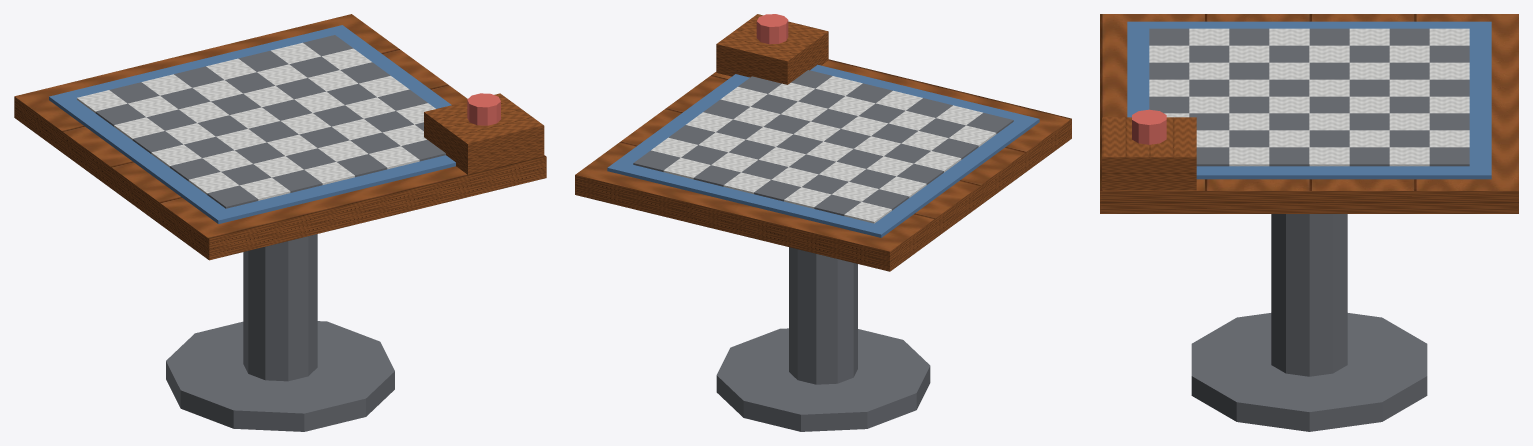
The model's file is cruise-ship-deck-and-lounge-cruise-ship-deck-and-loung-c3a394a3__38441.glb.
3 renders of one model, left to right at view 1: azimuth 30°, elevation 25°; view 2: azimuth 150°, elevation 25°; view 3: azimuth 270°, elevation 25°, orthographic. The views are drawn at different scales.
Visible parts, largest first — view 1: cruise-ship-deck-and-lounge-games-table; view 2: cruise-ship-deck-and-lounge-games-table; view 3: cruise-ship-deck-and-lounge-games-table.
Boxes of the visible parts, x1,y1,x2,y2 form: cruise-ship-deck-and-lounge-games-table: (14,14,546,431); cruise-ship-deck-and-lounge-games-table: (575,14,1071,431); cruise-ship-deck-and-lounge-games-table: (1100,14,1518,431).
Bounding box in the file's own units: 1.15 × 1 × 1.15.
Materials: 5 (2 with a texture image).
